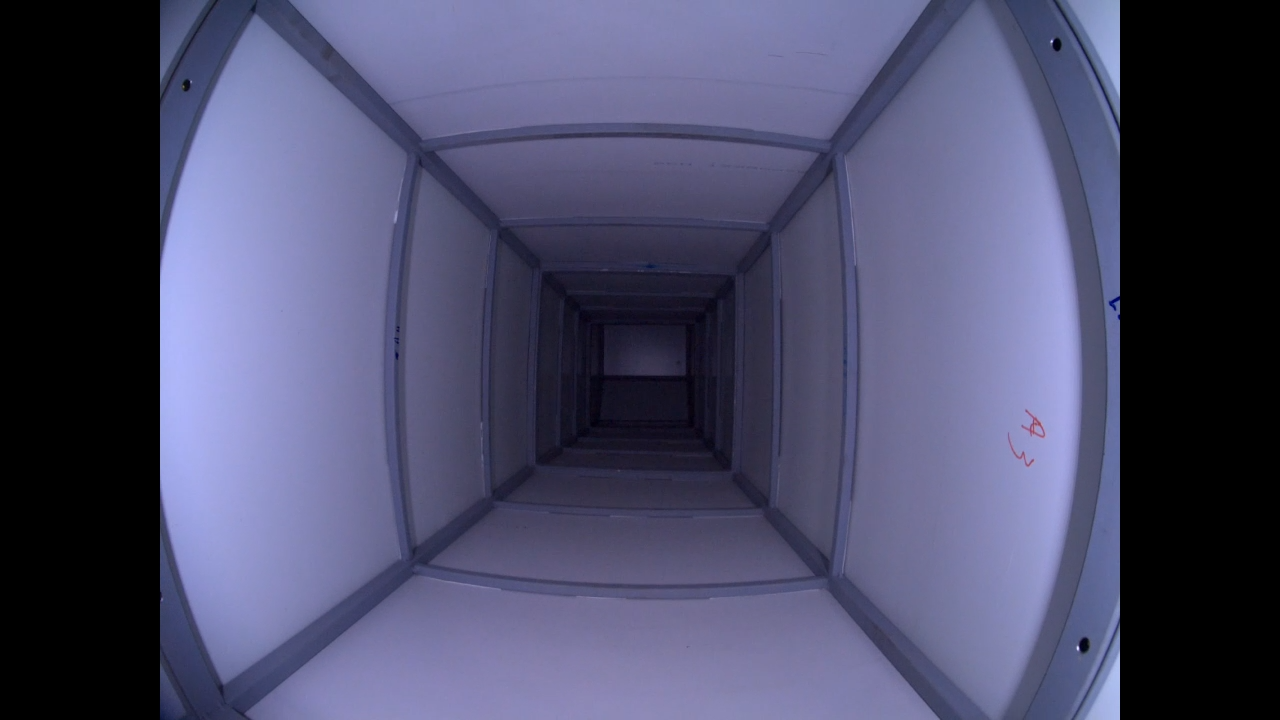divider: (373, 109, 866, 611)
